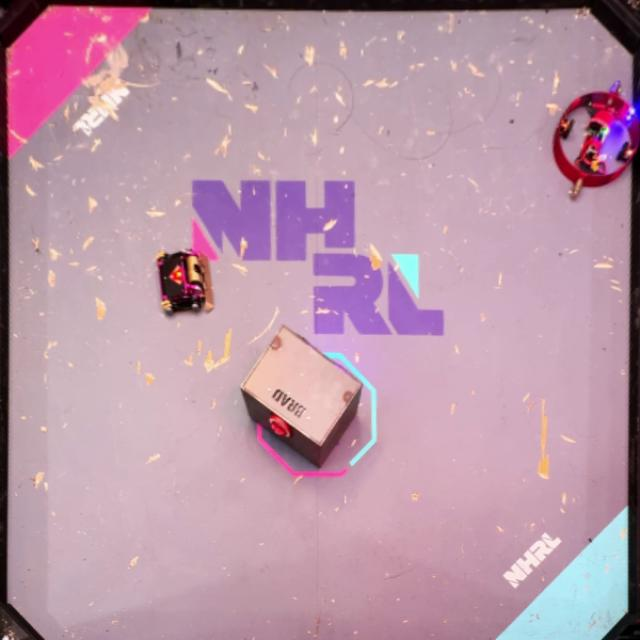housebot: (240, 324, 362, 469)
robot: (552, 81, 640, 200), (155, 250, 214, 316)
